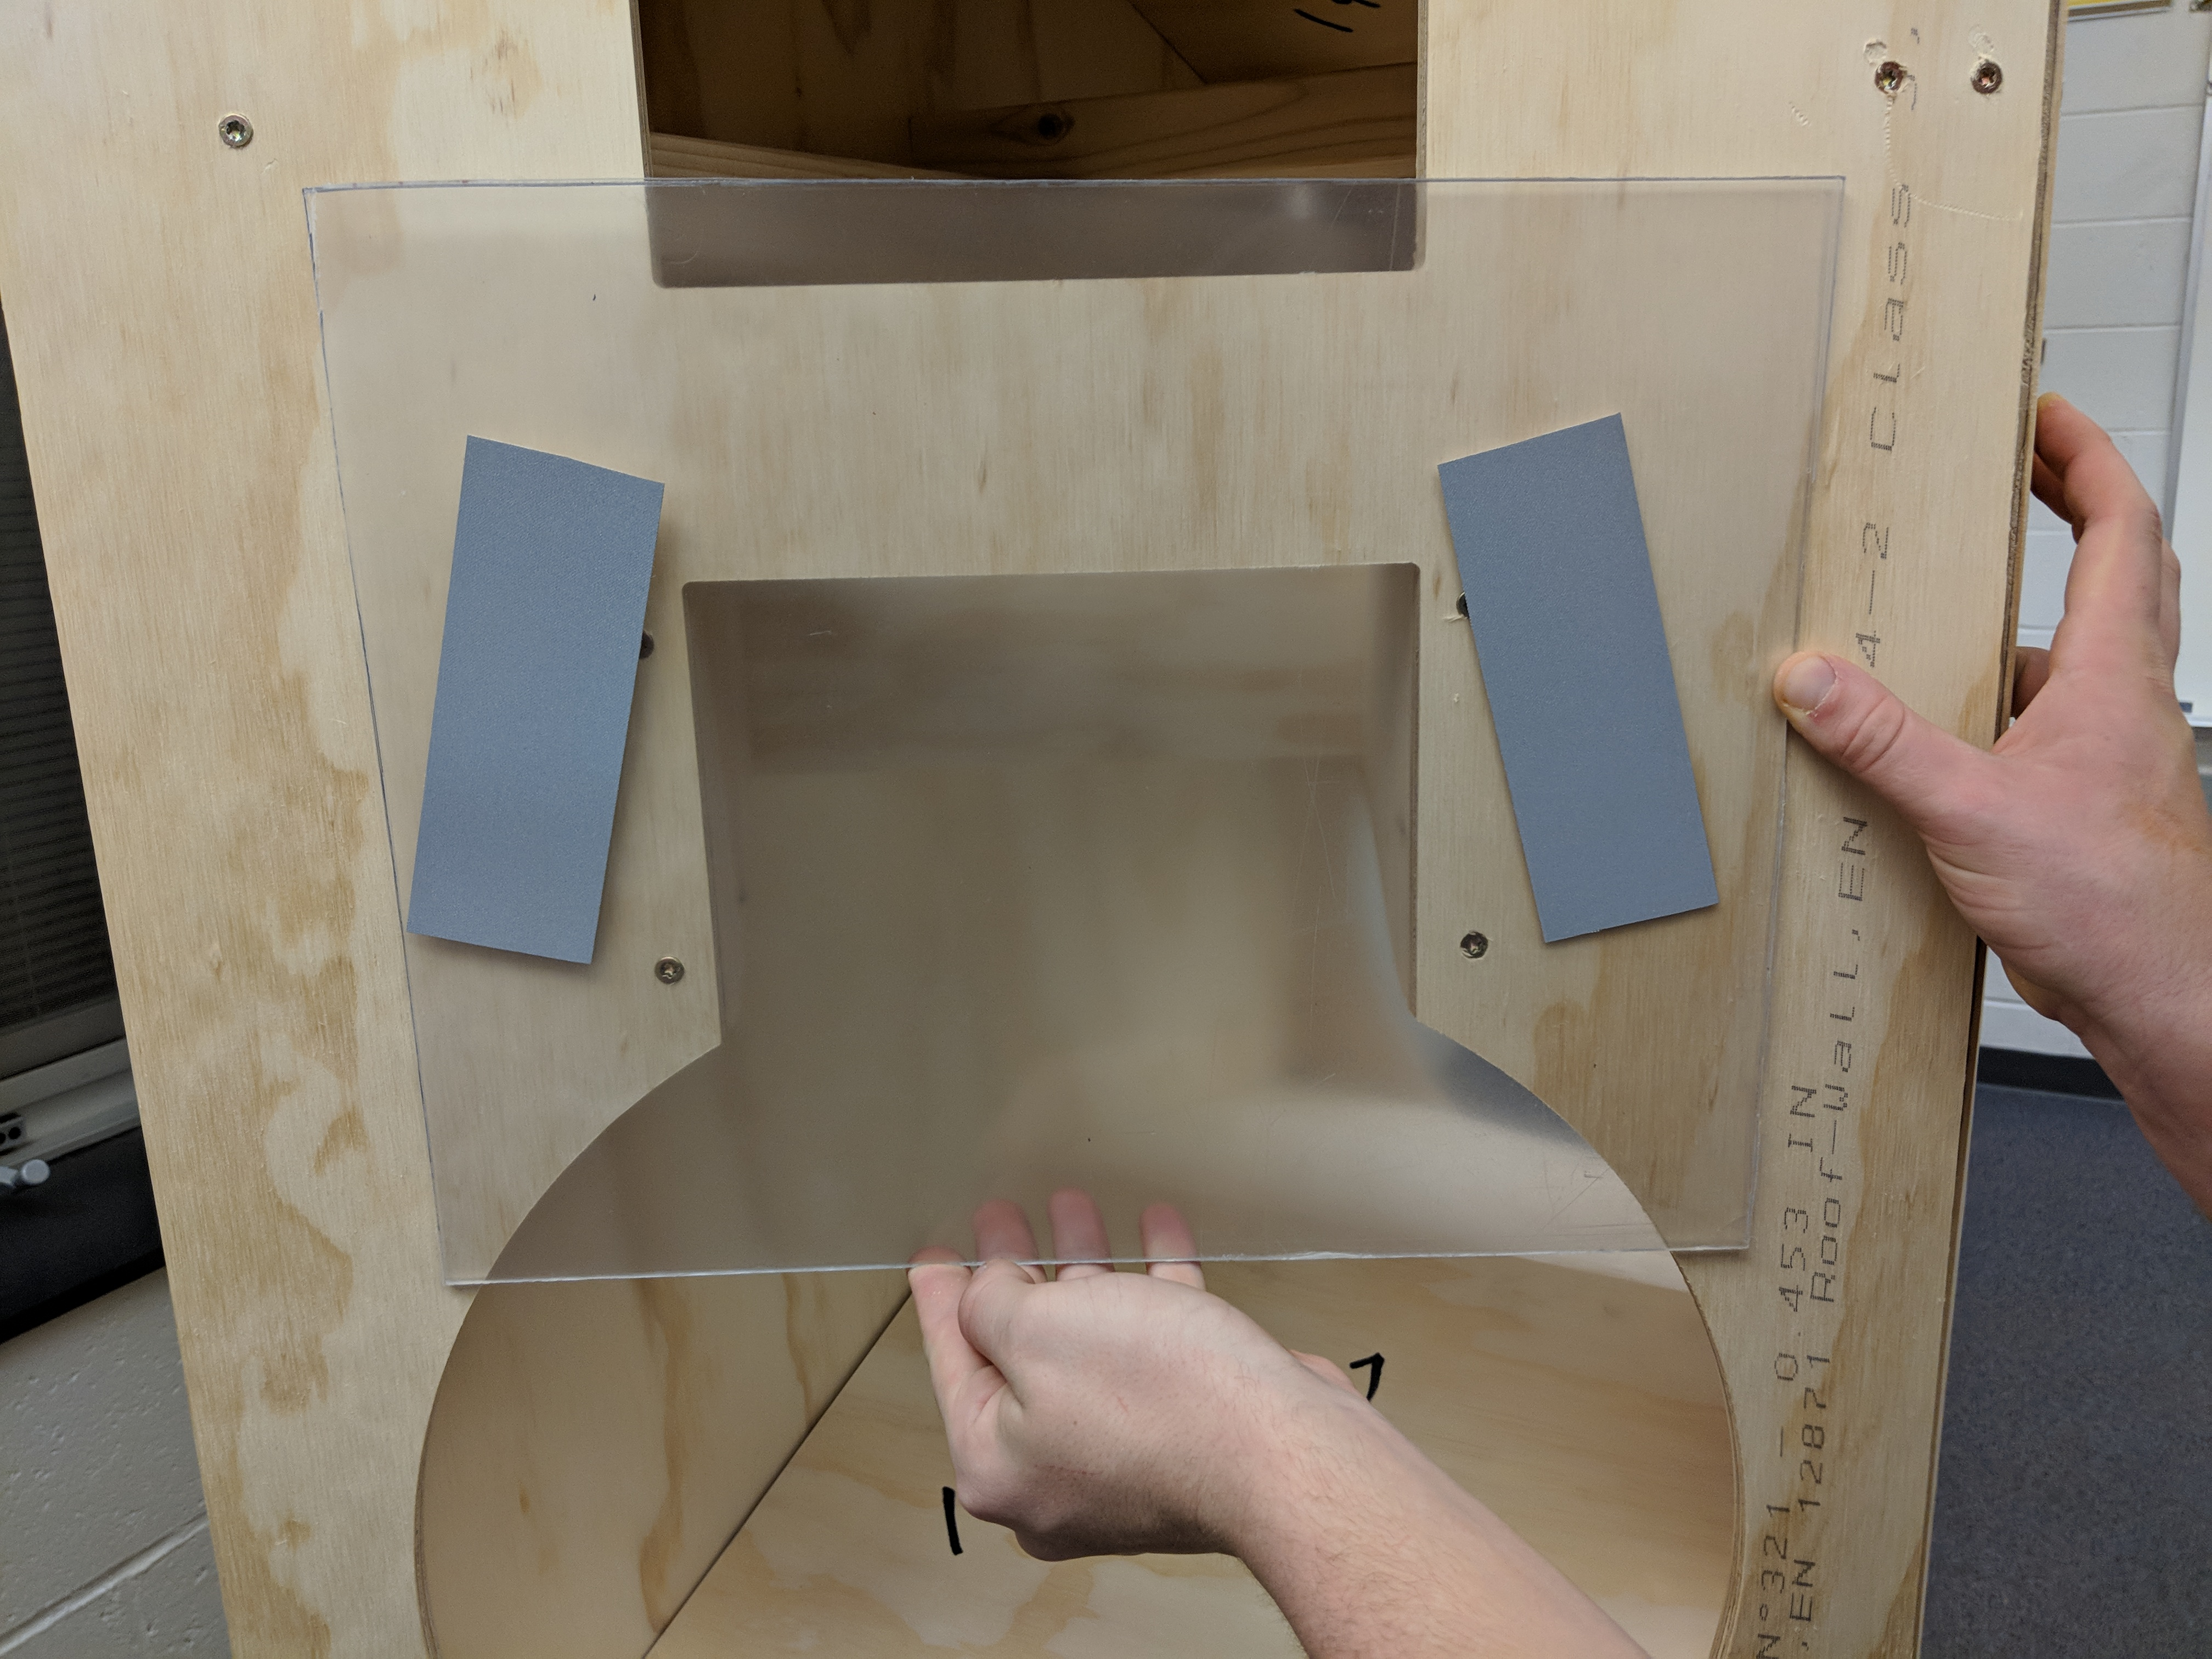vision_target: (401, 410, 1731, 983)
